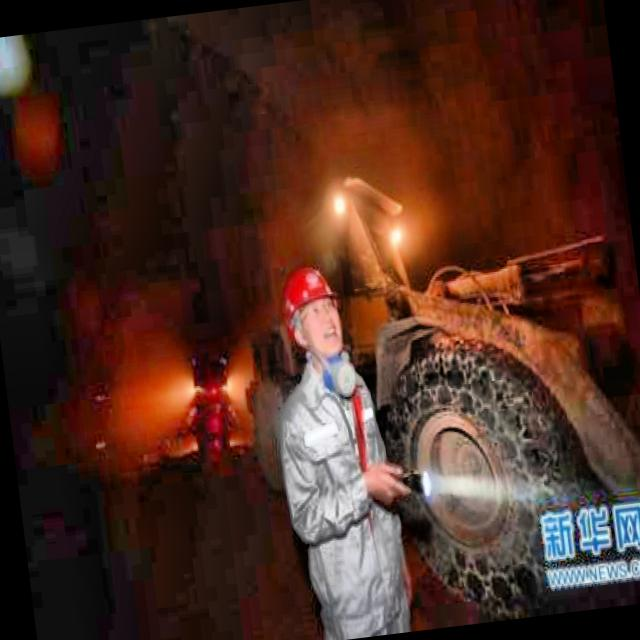helmet: (277, 258, 349, 369)
